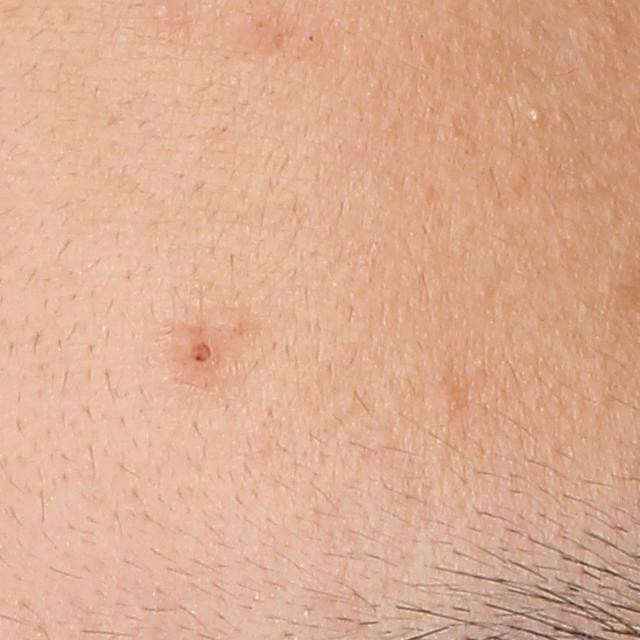comedo: (424, 384, 466, 419), (302, 27, 323, 48), (525, 107, 543, 124)
papule: (180, 328, 223, 375)
